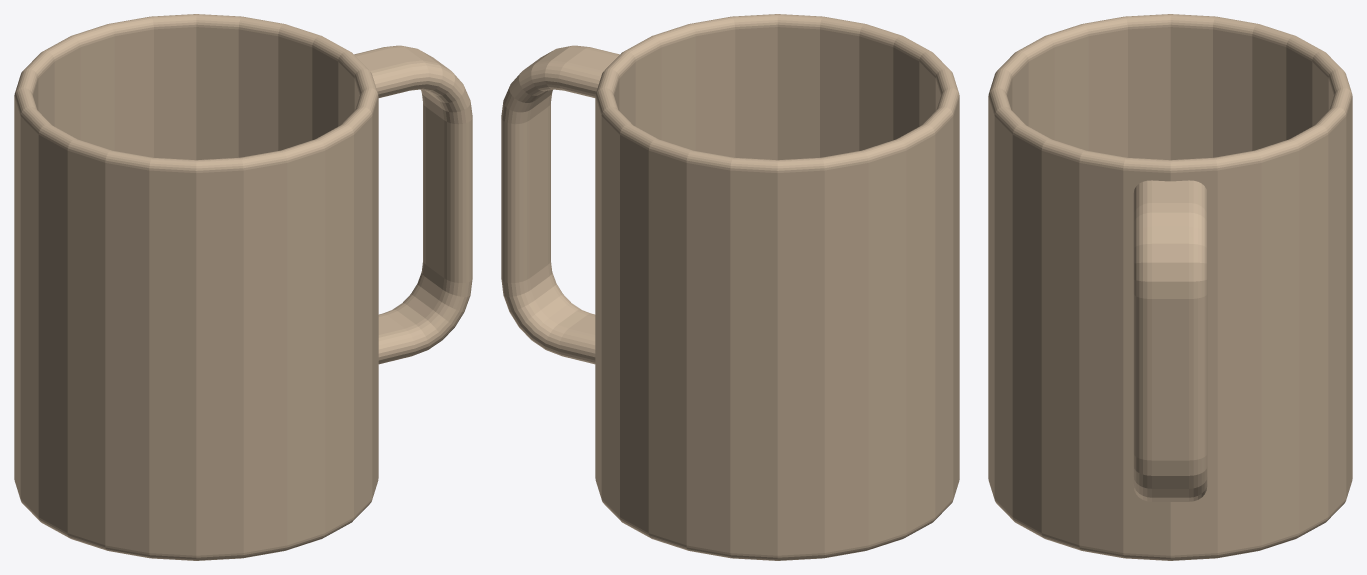
3 views of the same model, side by side, from view 1: azimuth 30°, elevation 25°; view 2: azimuth 150°, elevation 25°; view 3: azimuth 270°, elevation 25° (orthographic).
Visible parts, largest first — view 1: mesh1_mesh1-geometry, mesh2_mesh2-geometry; view 2: mesh1_mesh1-geometry, mesh2_mesh2-geometry; view 3: mesh1_mesh1-geometry, mesh2_mesh2-geometry.
Boxes of the visible parts, x1,y1,x2,y2 form: mesh1_mesh1-geometry: (14,14,378,560); mesh2_mesh2-geometry: (354,45,472,364); mesh1_mesh1-geometry: (595,14,959,560); mesh2_mesh2-geometry: (501,45,619,364); mesh1_mesh1-geometry: (988,14,1352,560); mesh2_mesh2-geometry: (1133,180,1207,501).
Size of the model in its own units: 0.6487 by 0.5865 by 0.4849.
